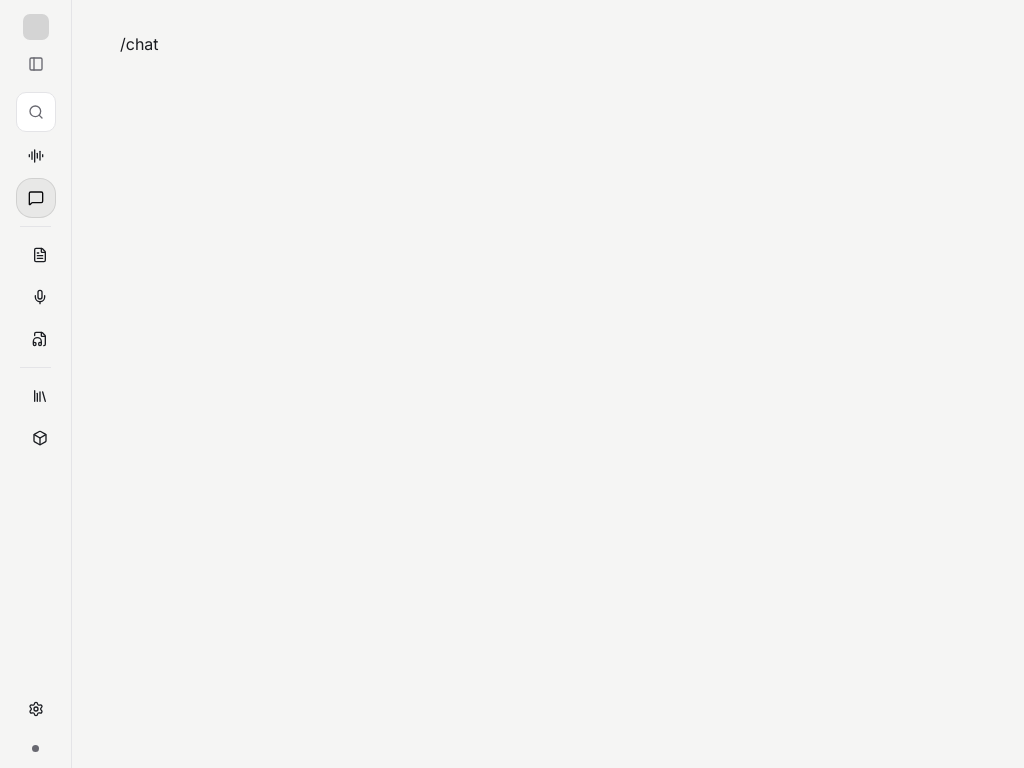
Test: CommandPalette › opens with the keyboard shortcut and jumps to a filtered page
Press k
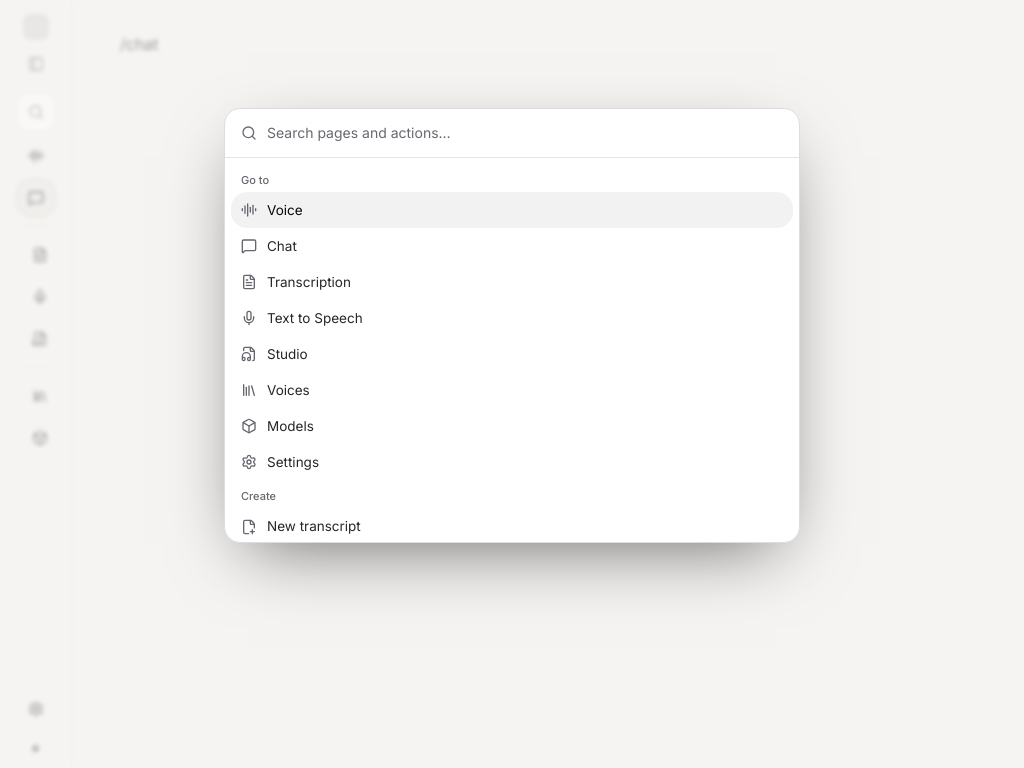
In the dropdown labelled "Search pages and actions": (525,132) top-left (267, 108), bottom-right (783, 156), type "spee"
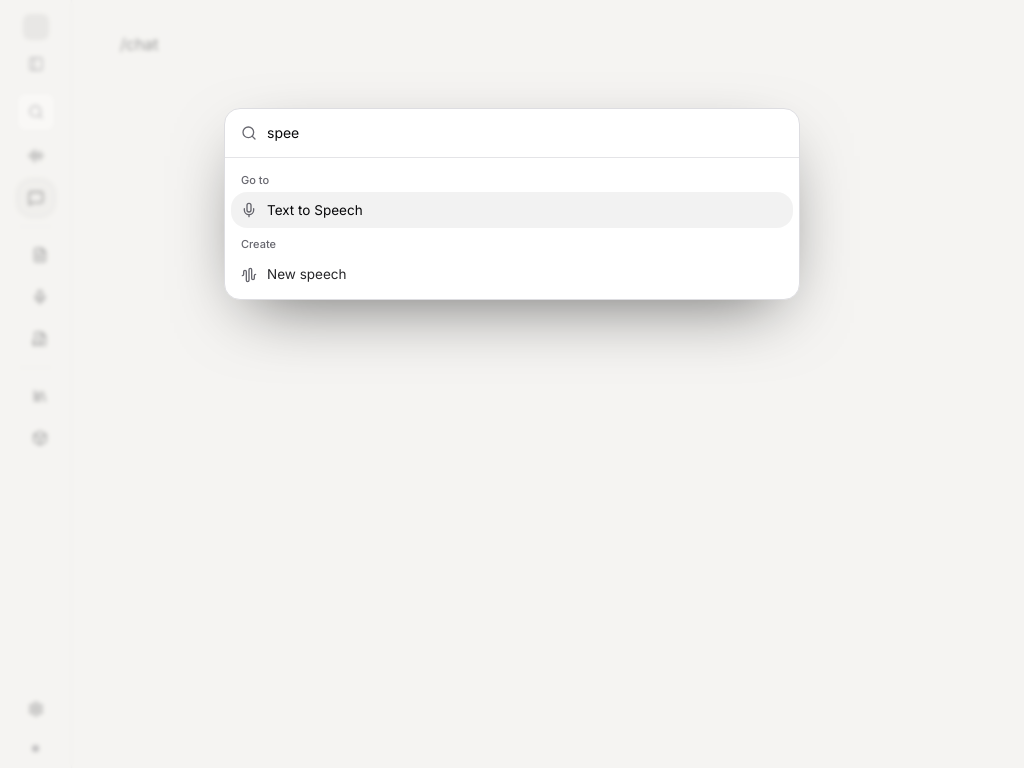
Expected: the options read "Text to Speech", "New speech", in this order, top-left (231, 192), bottom-right (793, 228); top-left (241, 266), bottom-right (346, 282)
Press ArrowDown in the dropdown named "Search pages and actions", box top-left (267, 108), bottom-right (783, 156)
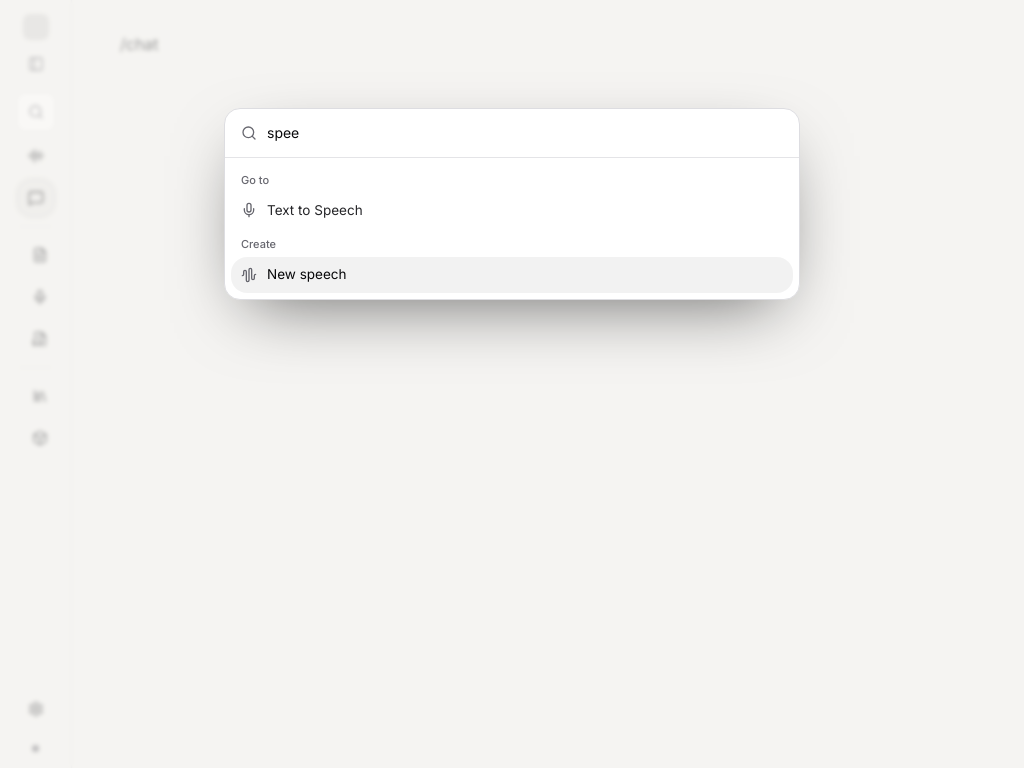
Press Enter in the dropdown named "Search pages and actions", box top-left (267, 108), bottom-right (783, 156)
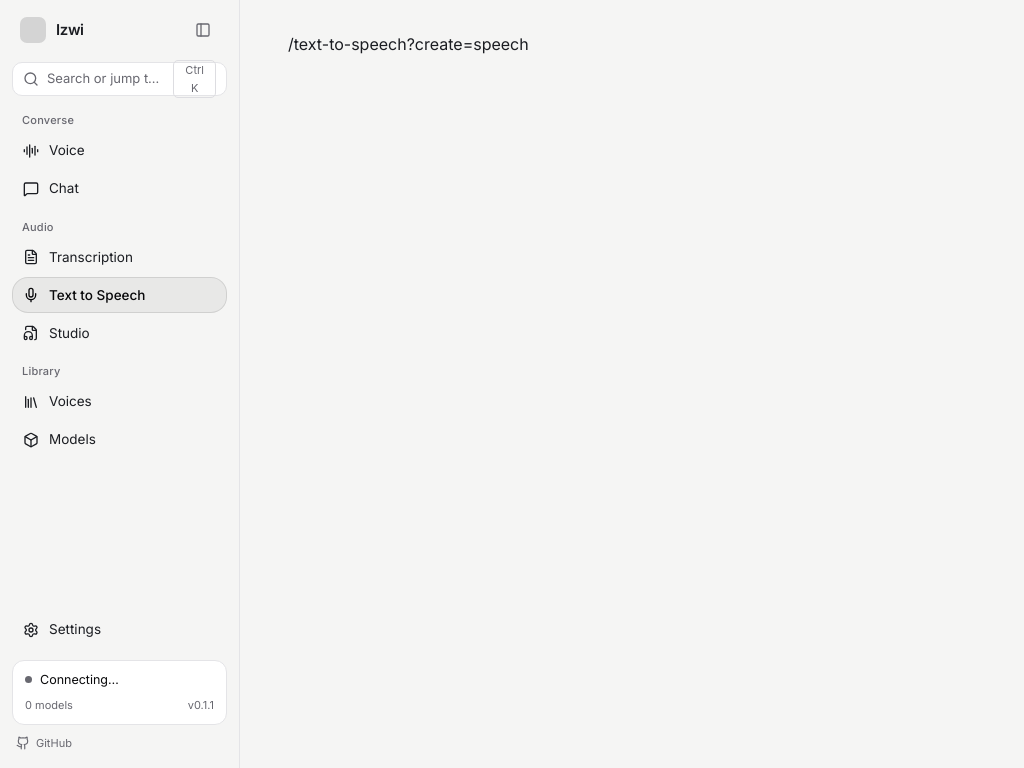
Expected: the text with test id "location" reads "/text-to-speech?create=speech", top-left (288, 34), bottom-right (529, 54)
Expected: the dropdown is gone
